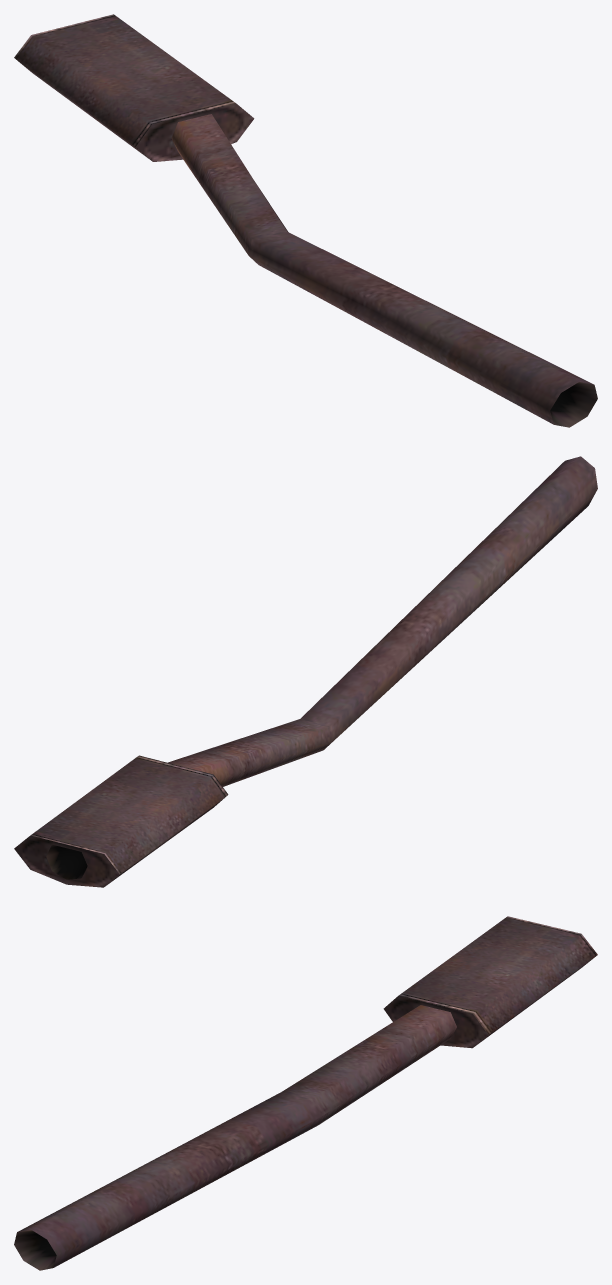
File: exhaust_l.fbx
3 views of the same model, one above another, from view 1: azimuth 30°, elevation 25°; view 2: azimuth 150°, elevation 25°; view 3: azimuth 330°, elevation 25° (orthographic). The views are drawn at different scales.
Parts seen in each view (by area): view 1: exhaust_l.001; view 2: exhaust_l.001; view 3: exhaust_l.001.
Boxes of the visible parts, x1,y1,x2,y2 form: exhaust_l.001: (14, 14, 597, 427); exhaust_l.001: (14, 456, 597, 887); exhaust_l.001: (14, 916, 597, 1270).
Size of the model in its own units: 20.32 by 17.59 by 159.
